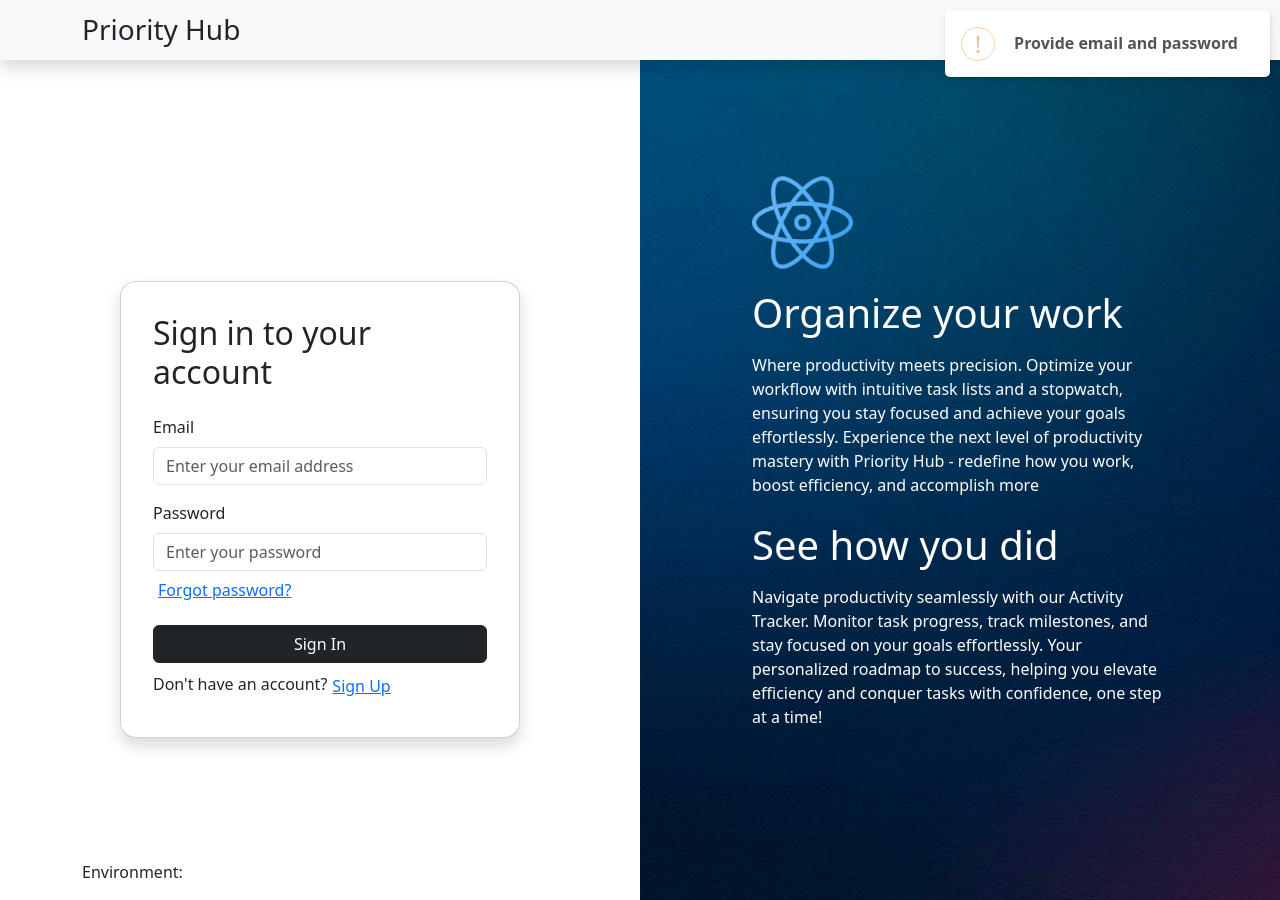
Test: SignInCustom › Should not be able to submit the Sign Up form with empty values
# Click the Sign Up button
Click the button with test id "signin_signup_btn" at (361, 686), box left=327, top=667, right=396, bottom=705
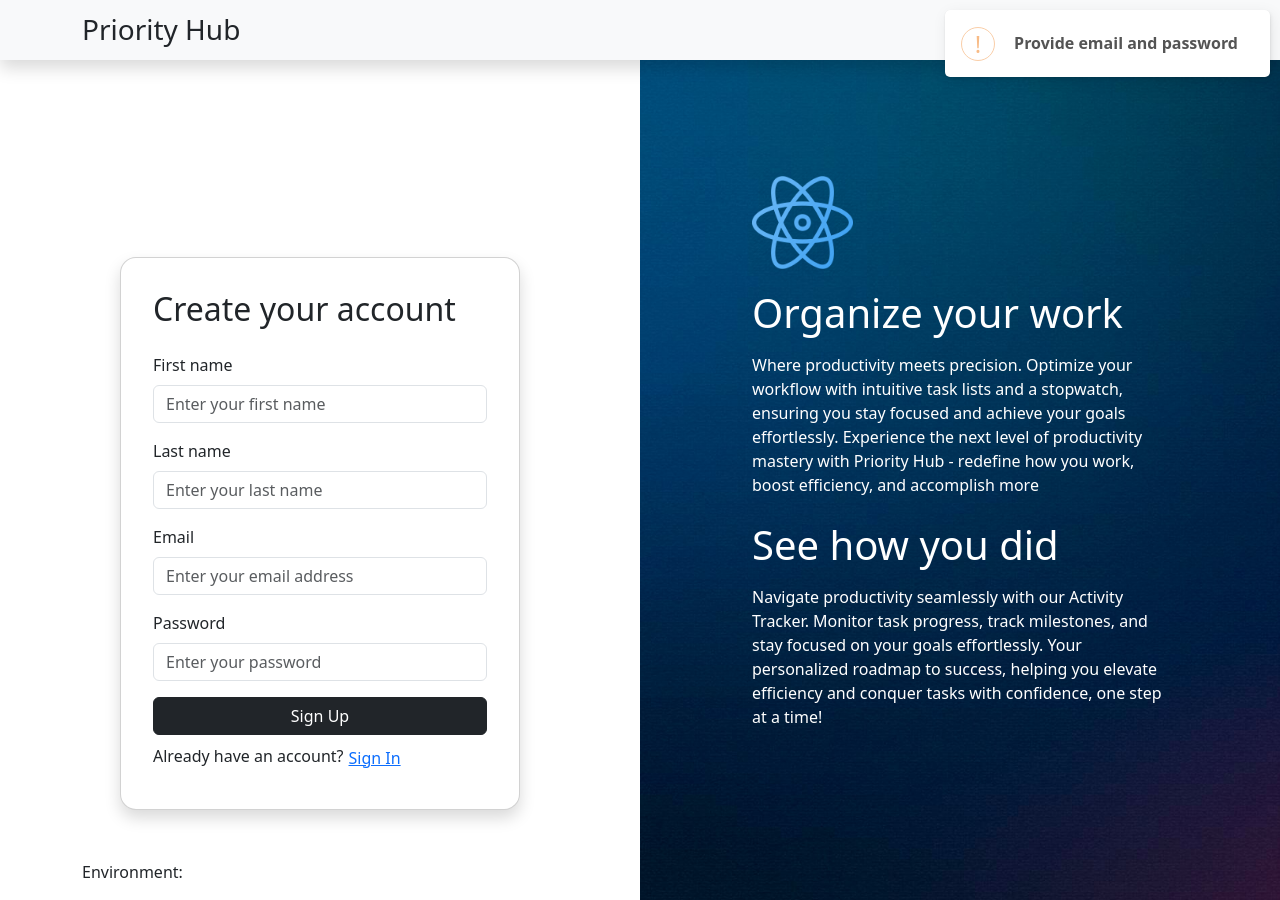
# Click the Sign Up button
Click the button with test id "signup_btn" at (320, 716), box left=153, top=697, right=487, bottom=735
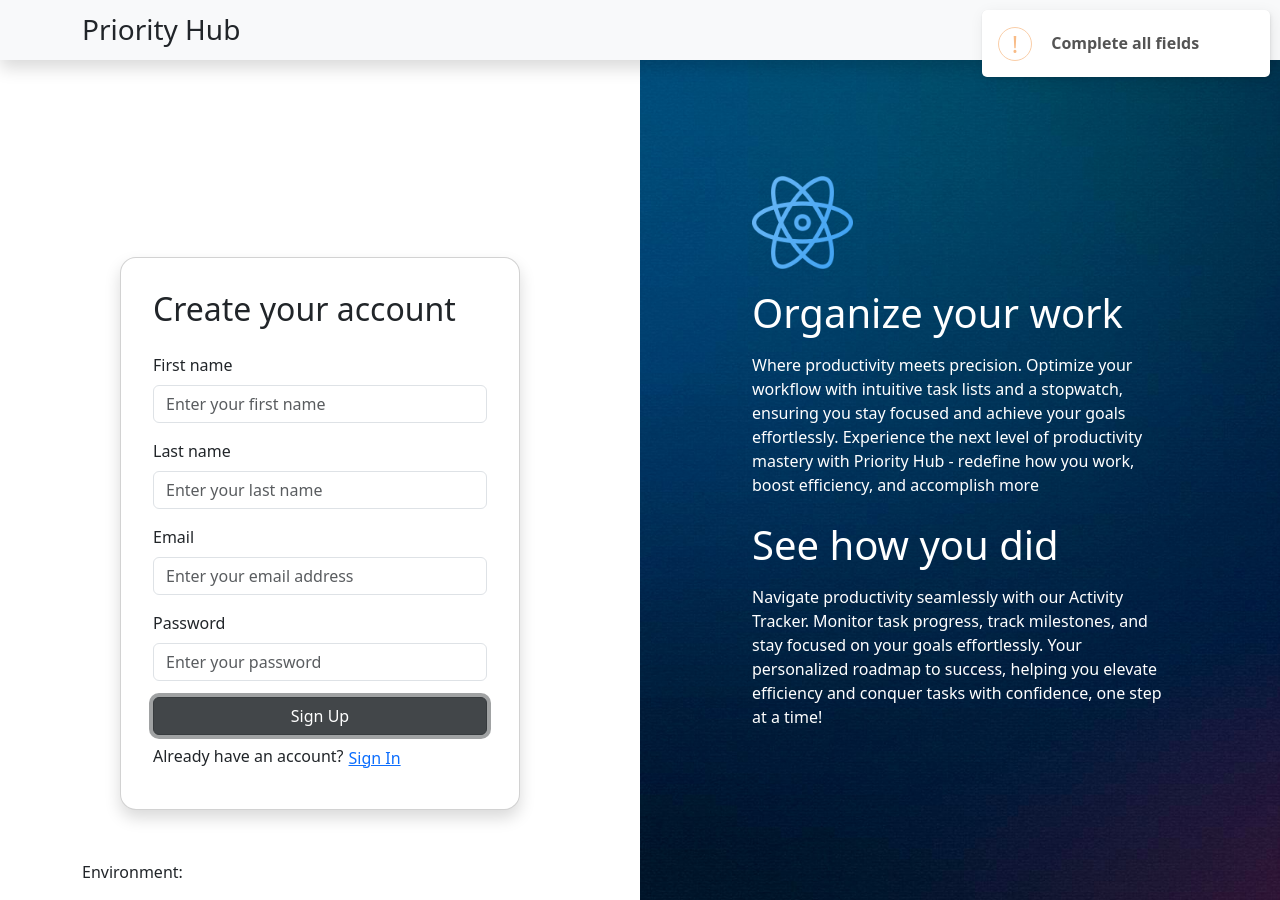
Expected: the heading "Complete all fields" is shown, left=1051, top=32, right=1199, bottom=54
